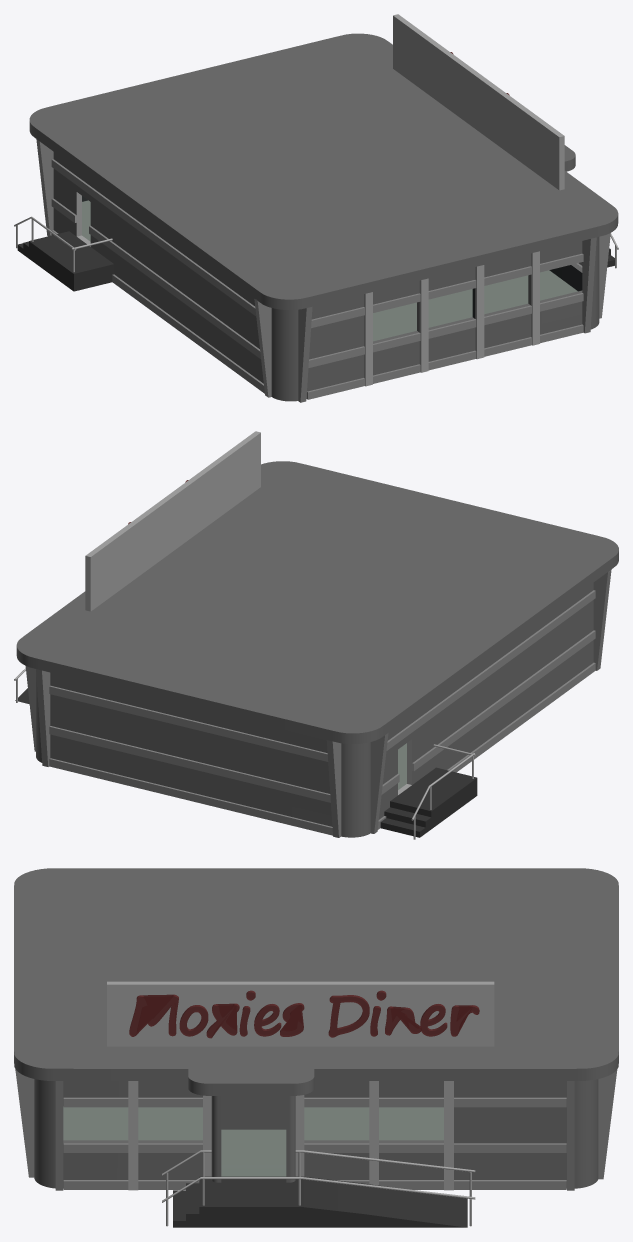
The model's file is DinerWIthExtras.fbx.
3 views of the same model, one above another, from view 1: azimuth 30°, elevation 25°; view 2: azimuth 150°, elevation 25°; view 3: azimuth 270°, elevation 25° (orthographic). The views are drawn at different scales.
Parts seen in each view (by area): view 1: pCylinder41; view 2: pCylinder41; view 3: pCylinder41.
Part boxes in pixels (x1,y1,x2,y2): pCylinder41: [14, 14, 618, 402]; pCylinder41: [14, 431, 618, 839]; pCylinder41: [14, 868, 618, 1227].
Size of the model in its own units: 19.91 by 7.43 by 20.65.
